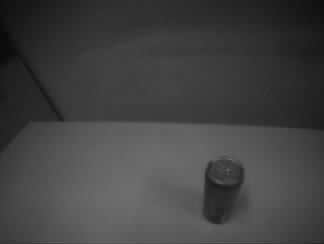Tin can: (201, 155, 245, 225)
